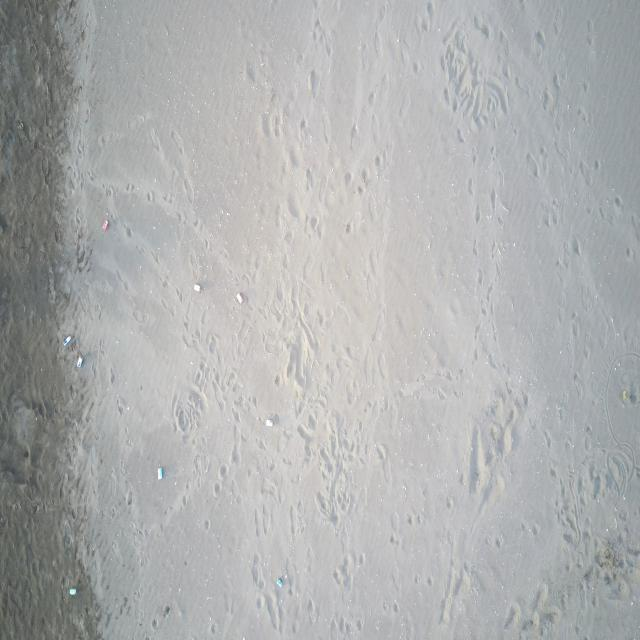tin-and-aluminum-cans: (235, 292, 244, 305), (265, 416, 274, 429), (76, 354, 84, 368), (68, 587, 78, 598), (64, 334, 72, 346), (102, 219, 109, 232), (194, 282, 202, 293), (158, 466, 163, 481), (276, 579, 282, 588)
